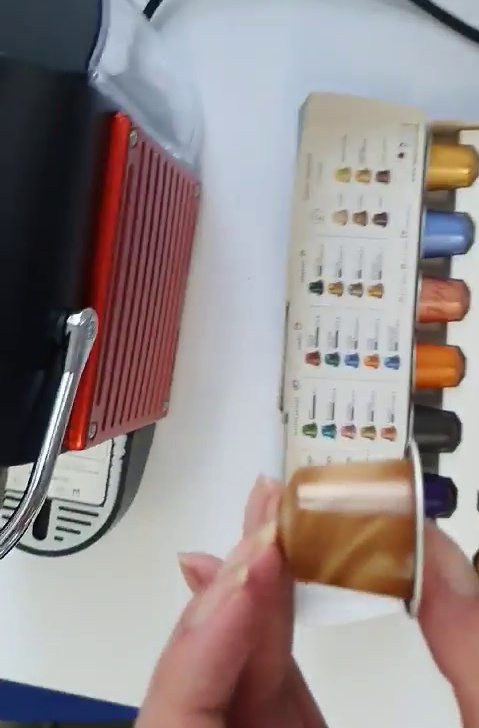capsule_12: (279, 444, 427, 613)
